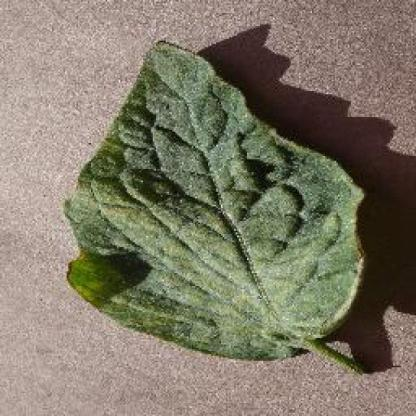Tomato_Spider_Mites: (68, 42, 362, 356)
